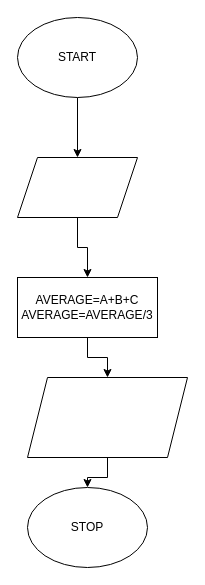
This 205x585 diagram has some shape labels left out. Each missing label, with the centre of its shape:
"A,B,C,AVERAGE" goes at [77,187].
"DISPLAY AVERAGE" goes at [107,417].
